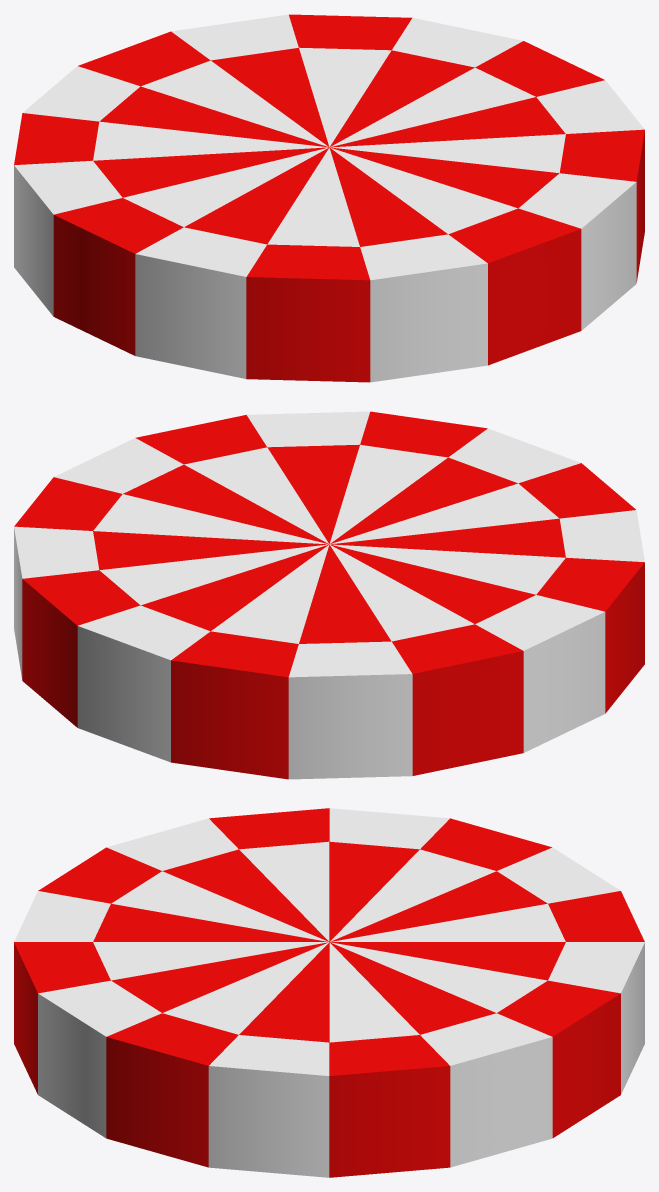
The model's file is White Checker.fbx.
3 renders of one model, top to bottom at view 1: azimuth 30°, elevation 25°; view 2: azimuth 150°, elevation 25°; view 3: azimuth 270°, elevation 25°, orthographic.
Visible parts, largest first — view 1: Cylinder_13; view 2: Cylinder_13; view 3: Cylinder_13.
Boxes of the visible parts, x1=… form: Cylinder_13: x1=14, y1=14, x2=644, y2=382; Cylinder_13: x1=14, y1=411, x2=644, y2=779; Cylinder_13: x1=14, y1=808, x2=644, y2=1177.
Bounding box in the file's own units: 8131 × 1439 × 8090.
